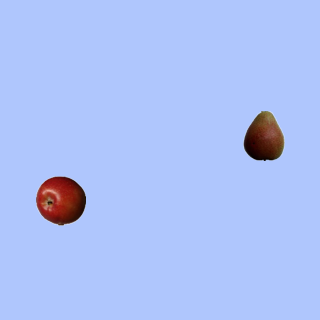Apple Braeburn: (35, 175, 85, 225)
Pear Forelle: (238, 110, 288, 160)
